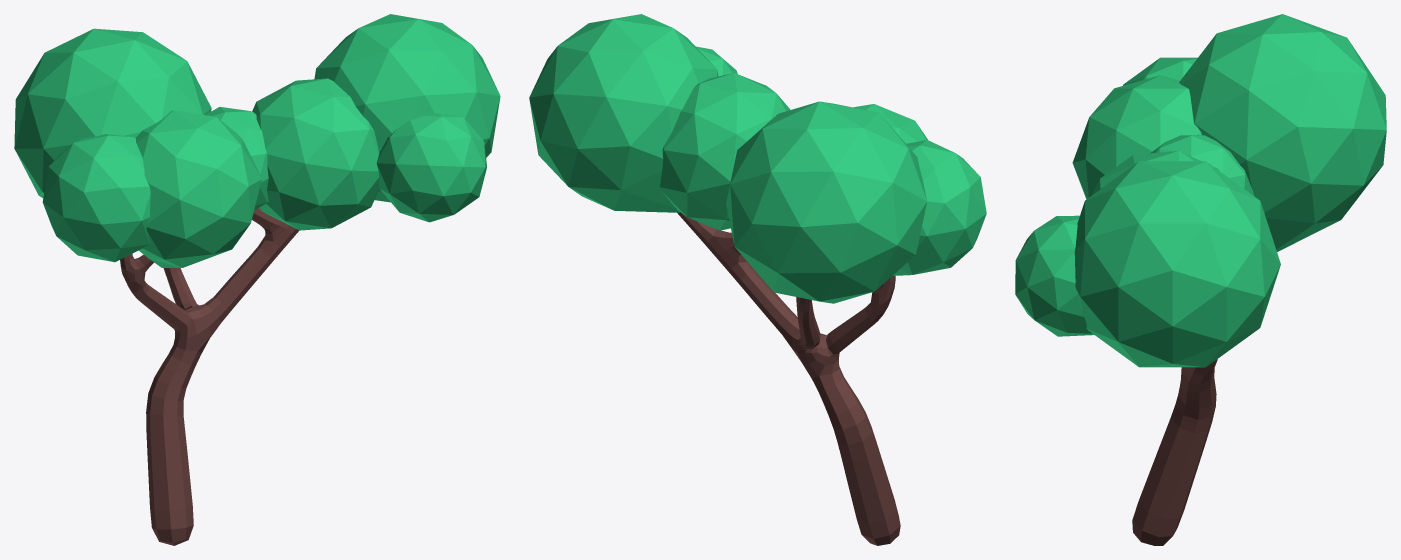
File: ExportedBlenderFBXFile.fbx
3 views of the same model, side by side, from view 1: azimuth 30°, elevation 25°; view 2: azimuth 150°, elevation 25°; view 3: azimuth 270°, elevation 25° (orthographic). The views are drawn at different scales.
Parts seen in each view (by area): view 1: Icosphere.004, Cube; view 2: Icosphere.004, Cube; view 3: Icosphere.004, Cube.
Boxes of the visible parts, x1,y1,x2,y2 form: Icosphere.004: [14, 14, 500, 267]; Cube: [120, 207, 299, 545]; Icosphere.004: [529, 14, 986, 303]; Cube: [677, 212, 900, 545]; Icosphere.004: [1015, 14, 1386, 367]; Cube: [1132, 359, 1217, 545].
Bounding box in the file's own units: 9.72 × 10.06 × 6.58.
